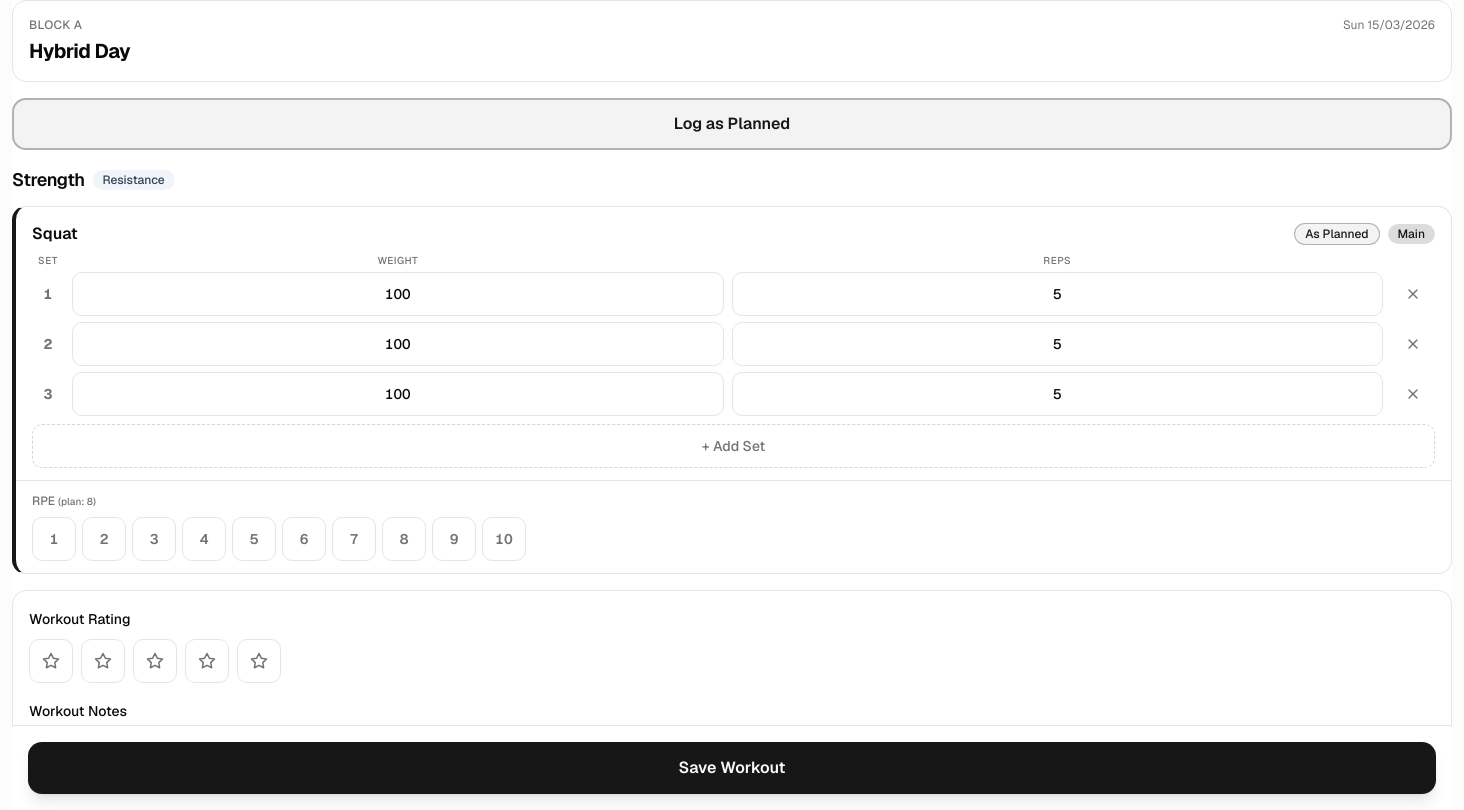
Mixed form Copy Down — AC34: resistance in mixed workout › copies set 1 values to sets 2..N on tap
The width and height of the screenshot is (1464, 810).
Clear the field with test id "weight-input-0-0-0" at (398, 294), box [72,272,724,316]
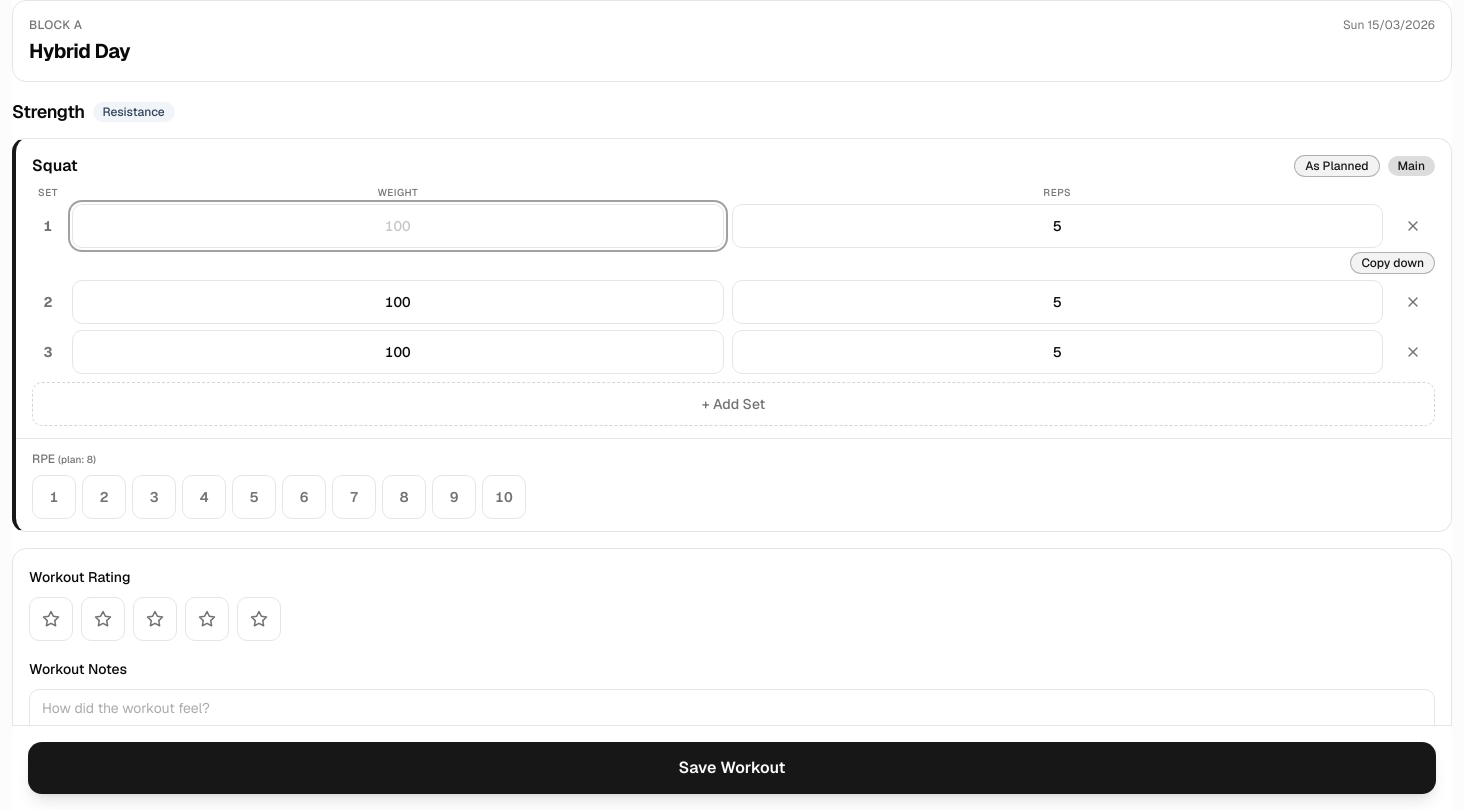
Type "110" into the field with test id "weight-input-0-0-0".
click(398, 226); type("110")  # box [72,204,724,248]
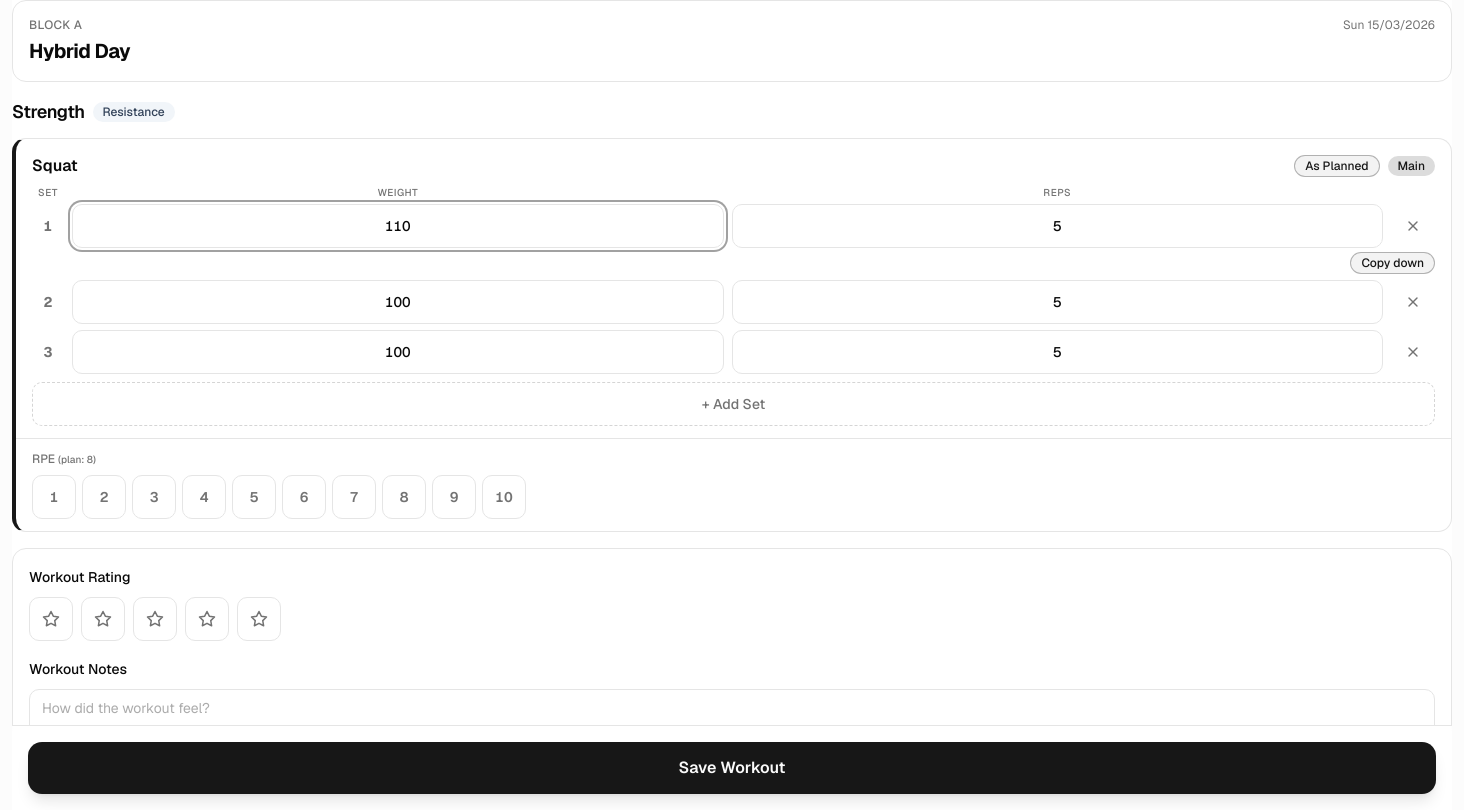
Type "3" into the field with test id "reps-input-0-0-0".
click(1057, 226); type("3")  # box [732,204,1383,248]
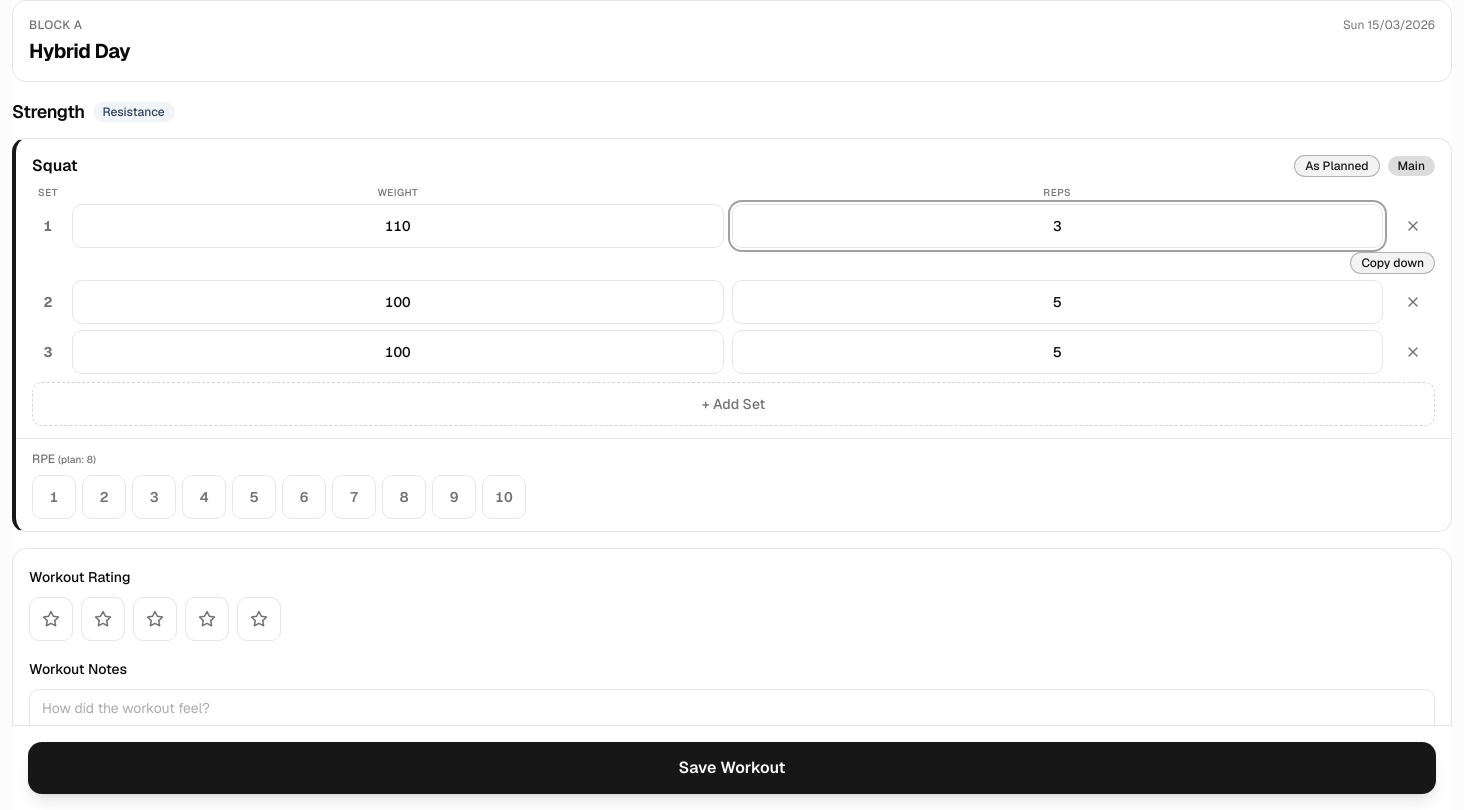
Click the button with test id "copy-down-resistance-0-0".
click(1393, 263)  # box [1350,252,1435,274]
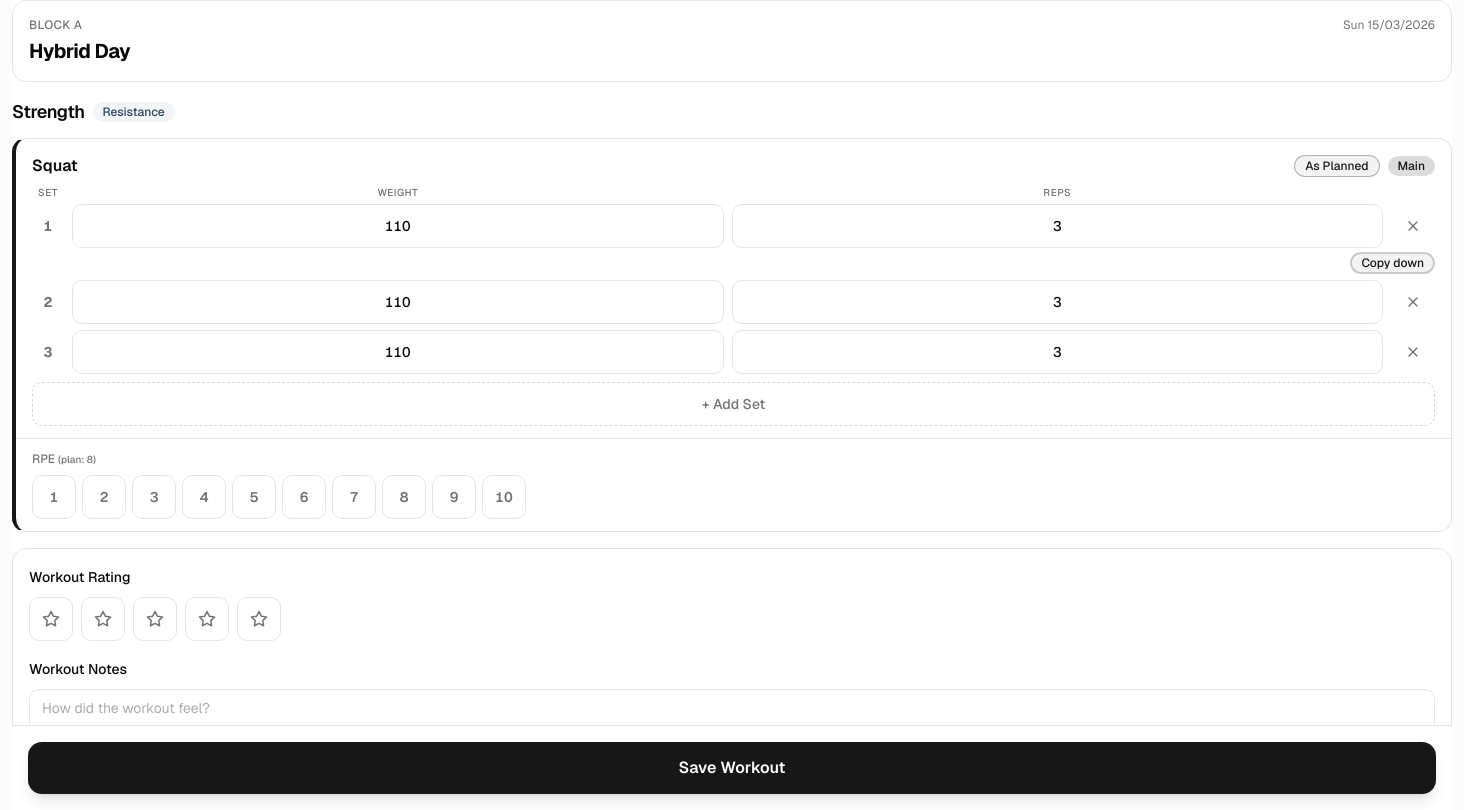
Result: the field with test id "weight-input-0-0-1" holds "110" at [72,280,724,324]
Result: the field with test id "reps-input-0-0-1" holds "3" at [732,280,1383,324]
Result: the field with test id "weight-input-0-0-2" holds "110" at [72,330,724,374]
